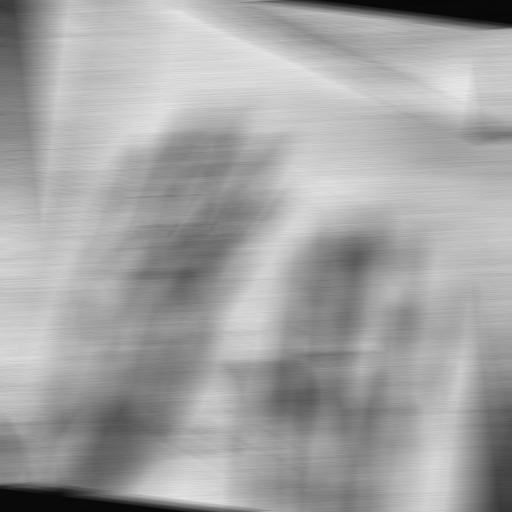house: (26, 64, 512, 512)
